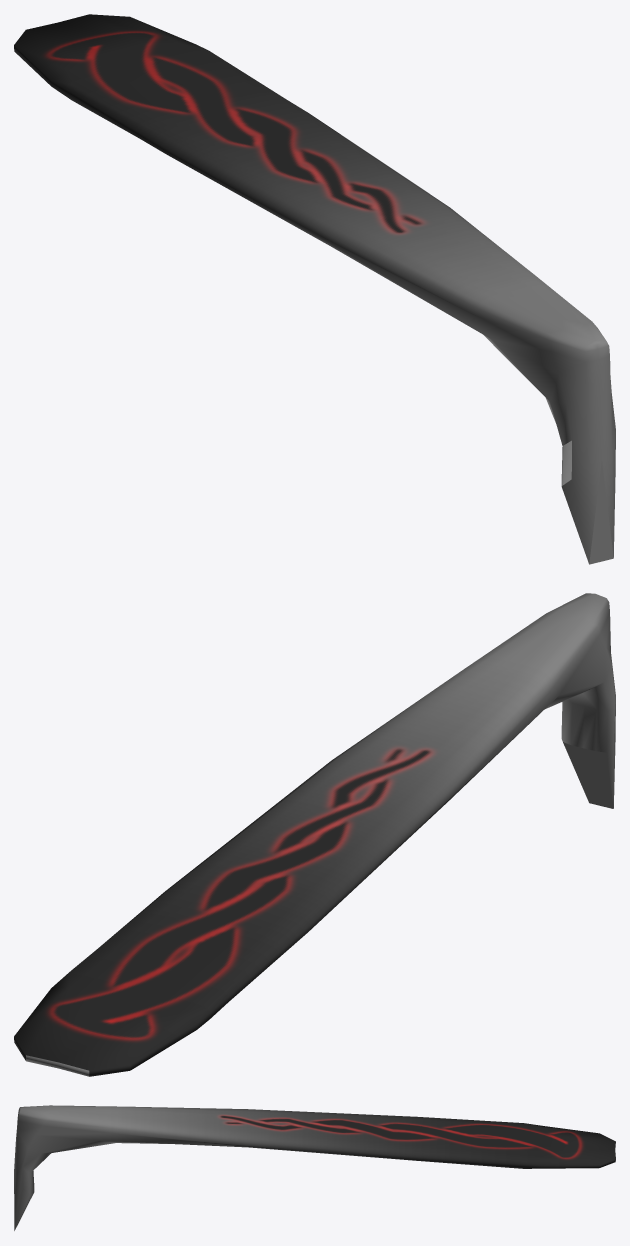
The model's file is DroneDestructionPart3.fbx.
The picture shows the model from 3 angles, top to bottom: view 1: azimuth 30°, elevation 25°; view 2: azimuth 150°, elevation 25°; view 3: azimuth 270°, elevation 25°; orthographic projection. The views are drawn at different scales.
Visible parts, largest first — view 1: Rotor; view 2: Rotor; view 3: Rotor.
Part boxes in pixels (x1,y1,x2,y2): Rotor: [14, 14, 615, 564]; Rotor: [14, 593, 615, 1076]; Rotor: [14, 1105, 615, 1230].
Bounding box in the file's own units: 1.81 × 2.57 × 11.72.
Materials: 1 (1 with a texture image).
